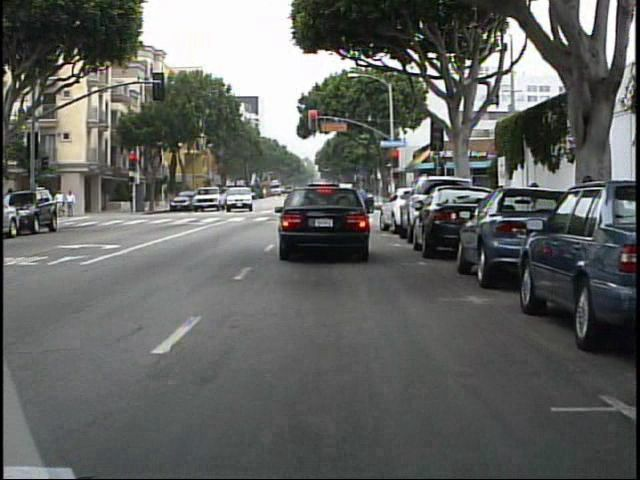person: (65, 189, 80, 218), (57, 187, 69, 218), (58, 186, 68, 222)
